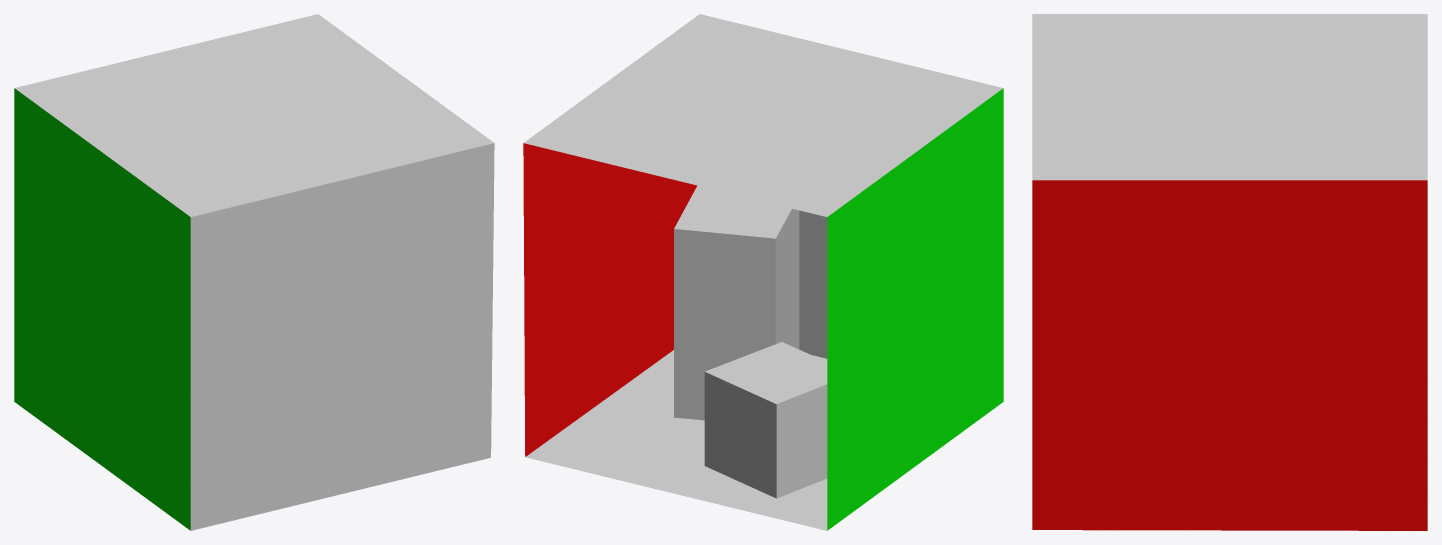
Rendered from cornell_box.gltf.
The picture shows the model from 3 angles, left to right: view 1: azimuth 30°, elevation 25°; view 2: azimuth 150°, elevation 25°; view 3: azimuth 270°, elevation 25°; orthographic projection. The views are drawn at different scales.
Parts seen in each view (by area): view 1: back_wall, green_wall, ceiling; view 2: green_wall, ceiling, red_wall, tall_block, floor, short_block, back_wall; view 3: red_wall, ceiling.
Boxes of the visible parts, x1=… form: back_wall: x1=190, y1=143, x2=494, y2=530; green_wall: x1=14, y1=88, x2=190, y2=530; ceiling: x1=14, y1=14, x2=493, y2=216; green_wall: x1=827, y1=88, x2=1003, y2=530; ceiling: x1=524, y1=14, x2=1003, y2=216; red_wall: x1=523, y1=143, x2=696, y2=456; tall_block: x1=674, y1=185, x2=799, y2=420; floor: x1=525, y1=350, x2=827, y2=530; short_block: x1=704, y1=342, x2=827, y2=498; back_wall: x1=799, y1=210, x2=827, y2=358; red_wall: x1=1032, y1=180, x2=1427, y2=530; ceiling: x1=1032, y1=14, x2=1427, y2=180.
Size of the model in its own units: 1.92 by 1.9 by 1.93.
